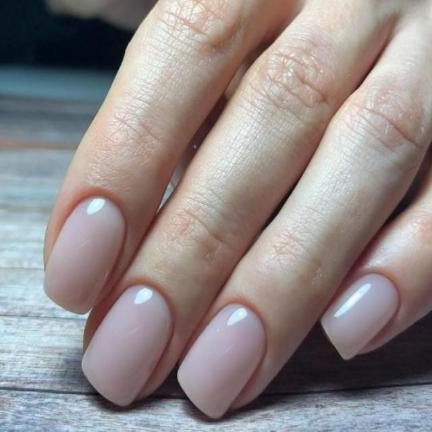Nail: (82, 285, 174, 405), (178, 304, 266, 418), (45, 197, 126, 313), (322, 273, 398, 359)
